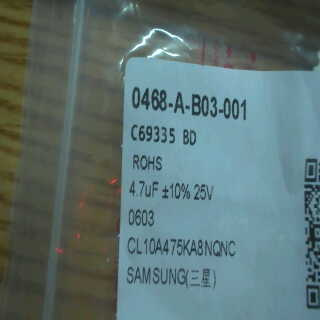4.7uF: (127, 174, 160, 202)
